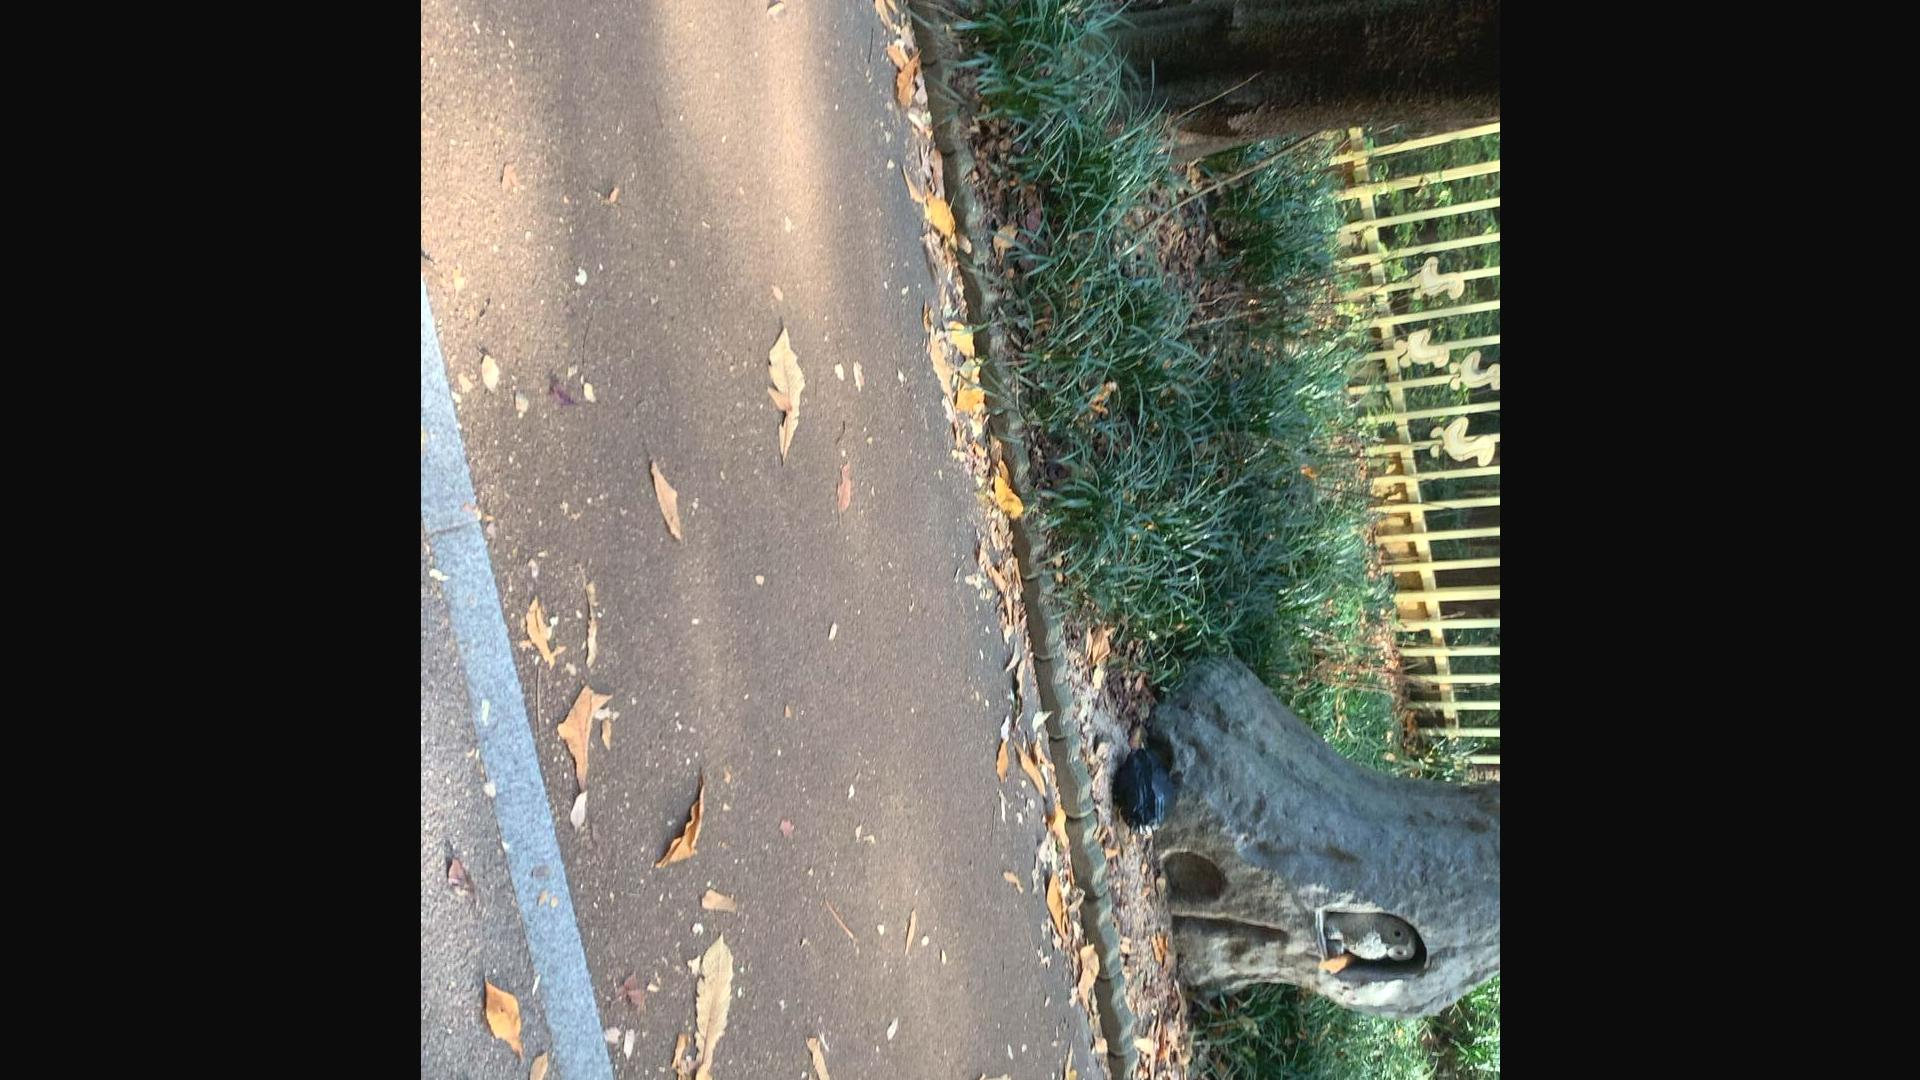black_bag: (1116, 745, 1179, 836)
